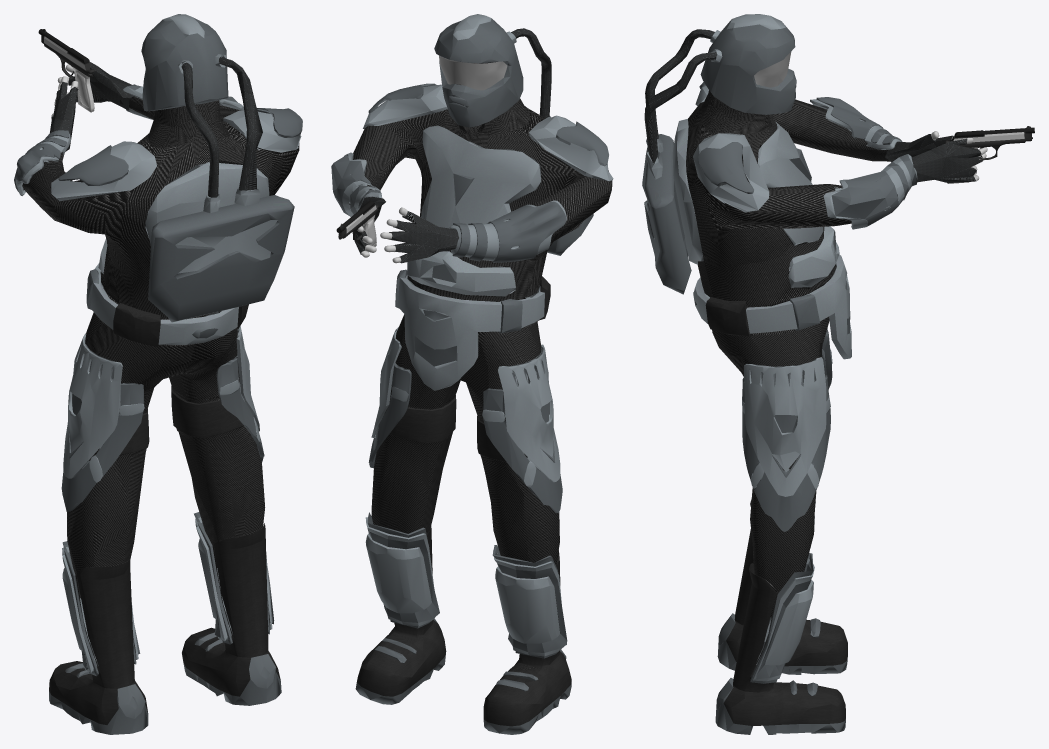
File: reposop.obj
3 views of the same model, side by side, from view 1: azimuth 30°, elevation 25°; view 2: azimuth 150°, elevation 25°; view 3: azimuth 270°, elevation 25° (orthographic). The views are drawn at different scales.
Visible parts, largest first — view 1: personajeskefix:personaje:extrudedSurface2 polySurface2, personajeskefix:personaje:bota1 polySurface2, personajeskefix:personaje:PANTALON polySurface2, personajeskefix:personaje:CAMISETABUENA polySurface2, personajeskefix:personaje:pPipe4 polySurface2, personajeskefix:personaje:pCube4 polySurface2, personajeskefix:personaje:cosoarmdaurapierna1 polySurface2, personajeskefix:personaje:cinturon polySurface2, personajeskefix:personaje:polySurface6 polySurface2, personajeskefix:personaje:armadbota1 polySurface2, pistola:Cylinder001 polySurface2, personajeskefix:personaje:HOMBRO2 polySurface2 (+6 smaller); view 2: personajeskefix:personaje:pPipe4 polySurface2, personajeskefix:personaje:PANTALON polySurface2, personajeskefix:personaje:CAMISETABUENA polySurface2, personajeskefix:personaje:bota1 polySurface2, personajeskefix:personaje:cinturon polySurface2, personajeskefix:personaje:armadbota1 polySurface2, personajeskefix:personaje:pCube4 polySurface2, personajeskefix:personaje:extrudedSurface2 polySurface2, personajeskefix:personaje:cosoarmdaurapierna1 polySurface2, personajeskefix:personaje:polySurface2 polySurface2, personajeskefix:personaje:polySurface6 polySurface2, personajeskefix:personaje:gafas polySurface2 (+8 smaller); view 3: personajeskefix:personaje:CAMISETABUENA polySurface2, personajeskefix:personaje:pPipe4 polySurface2, personajeskefix:personaje:bota1 polySurface2, personajeskefix:personaje:extrudedSurface2 polySurface2, personajeskefix:personaje:pCube4 polySurface2, personajeskefix:personaje:PANTALON polySurface2, personajeskefix:personaje:cinturon polySurface2, personajeskefix:personaje:cosoarmadurapierna2 polySurface2, personajeskefix:personaje:armadbota1 polySurface2, personajeskefix:personaje:hombro1 polySurface2, pistola:Cylinder001 polySurface2, personajeskefix:personaje:polySurface2 polySurface2 (+4 smaller).
Boxes of the visible parts, x1=… form: personajeskefix:personaje:extrudedSurface2 polySurface2: x1=141, y1=14, x2=294, y2=322; personajeskefix:personaje:bota1 polySurface2: x1=49, y1=524, x2=281, y2=734; personajeskefix:personaje:PANTALON polySurface2: x1=67, y1=287, x2=265, y2=598; personajeskefix:personaje:CAMISETABUENA polySurface2: x1=22, y1=97, x2=299, y2=346; personajeskefix:personaje:pPipe4 polySurface2: x1=44, y1=62, x2=301, y2=272; personajeskefix:personaje:pCube4 polySurface2: x1=61, y1=312, x2=274, y2=676; personajeskefix:personaje:cosoarmdaurapierna1 polySurface2: x1=63, y1=333, x2=144, y2=482; personajeskefix:personaje:cinturon polySurface2: x1=86, y1=263, x2=248, y2=346; personajeskefix:personaje:polySurface6 polySurface2: x1=120, y1=386, x2=243, y2=455; personajeskefix:personaje:armadbota1 polySurface2: x1=62, y1=517, x2=272, y2=672; pistola:Cylinder001 polySurface2: x1=38, y1=29, x2=95, y2=112; personajeskefix:personaje:HOMBRO2 polySurface2: x1=58, y1=145, x2=128, y2=185; personajeskefix:personaje:pPipe4 polySurface2: x1=331, y1=84, x2=613, y2=296; personajeskefix:personaje:PANTALON polySurface2: x1=371, y1=291, x2=559, y2=564; personajeskefix:personaje:CAMISETABUENA polySurface2: x1=348, y1=62, x2=612, y2=330; personajeskefix:personaje:bota1 polySurface2: x1=355, y1=526, x2=571, y2=734; personajeskefix:personaje:cinturon polySurface2: x1=395, y1=266, x2=550, y2=390; personajeskefix:personaje:armadbota1 polySurface2: x1=365, y1=517, x2=564, y2=656; personajeskefix:personaje:pCube4 polySurface2: x1=367, y1=327, x2=567, y2=658; personajeskefix:personaje:extrudedSurface2 polySurface2: x1=434, y1=14, x2=593, y2=255; personajeskefix:personaje:cosoarmdaurapierna1 polySurface2: x1=482, y1=344, x2=560, y2=487; personajeskefix:personaje:polySurface2 polySurface2: x1=452, y1=201, x2=566, y2=262; personajeskefix:personaje:polySurface6 polySurface2: x1=389, y1=395, x2=506, y2=461; personajeskefix:personaje:gafas polySurface2: x1=439, y1=55, x2=507, y2=90; personajeskefix:personaje:CAMISETABUENA polySurface2: x1=686, y1=90, x2=897, y2=335; personajeskefix:personaje:pPipe4 polySurface2: x1=672, y1=84, x2=982, y2=287; personajeskefix:personaje:bota1 polySurface2: x1=715, y1=500, x2=847, y2=734; personajeskefix:personaje:extrudedSurface2 polySurface2: x1=642, y1=14, x2=796, y2=294; personajeskefix:personaje:pCube4 polySurface2: x1=742, y1=330, x2=832, y2=683; personajeskefix:personaje:PANTALON polySurface2: x1=712, y1=272, x2=831, y2=617; personajeskefix:personaje:cinturon polySurface2: x1=693, y1=245, x2=851, y2=359; personajeskefix:personaje:cosoarmadurapierna2 polySurface2: x1=742, y1=371, x2=830, y2=531; personajeskefix:personaje:armadbota1 polySurface2: x1=753, y1=502, x2=815, y2=681; personajeskefix:personaje:hombro1 polySurface2: x1=698, y1=142, x2=753, y2=193; pistola:Cylinder001 polySurface2: x1=945, y1=126, x2=1034, y2=183; personajeskefix:personaje:polySurface2 polySurface2: x1=816, y1=97, x2=902, y2=162.
Size of the model in its own units: 3.66 by 9.66 by 5.02.
